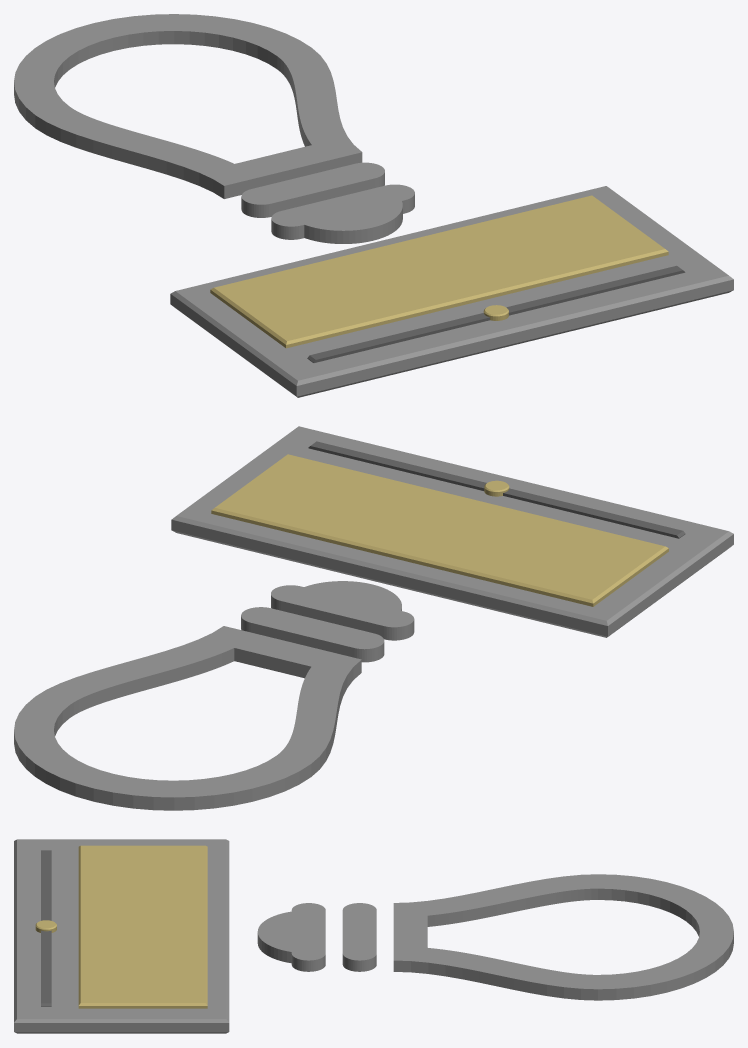
The model's file is LightControllerFixedRotation.fbx.
3 views of the same model, one above another, from view 1: azimuth 30°, elevation 25°; view 2: azimuth 150°, elevation 25°; view 3: azimuth 270°, elevation 25° (orthographic). The views are drawn at different scales.
Visible parts, largest first — view 1: Curve, Cube, Controls panel, Volume rail; view 2: Curve, Cube, Controls panel, Volume rail; view 3: Curve, Cube, Controls panel, Volume rail.
Part boxes in pixels (bbox=[...]): Curve: bbox=[14, 14, 414, 243]; Cube: bbox=[210, 195, 668, 348]; Controls panel: bbox=[170, 186, 733, 397]; Volume rail: bbox=[307, 265, 685, 362]; Curve: bbox=[14, 581, 414, 810]; Cube: bbox=[211, 454, 668, 606]; Controls panel: bbox=[171, 426, 733, 637]; Volume rail: bbox=[308, 441, 685, 538]; Curve: bbox=[257, 874, 733, 1000]; Cube: bbox=[78, 845, 207, 1008]; Controls panel: bbox=[14, 839, 229, 1033]; Volume rail: bbox=[41, 850, 51, 1006].
Size of the model in its own units: 400 by 20 by 669.
